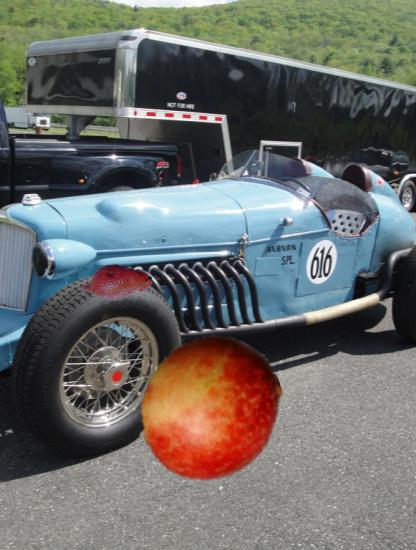Nectarine: (138, 335, 285, 482)
Salak: (80, 246, 153, 319)
